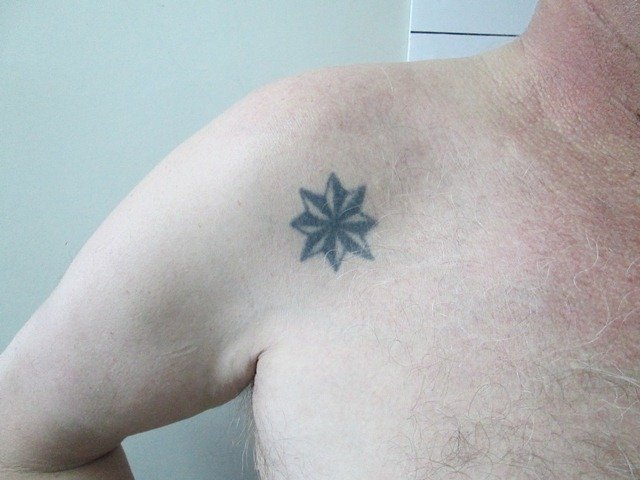tatu4_zvezda: (290, 172, 378, 275)
